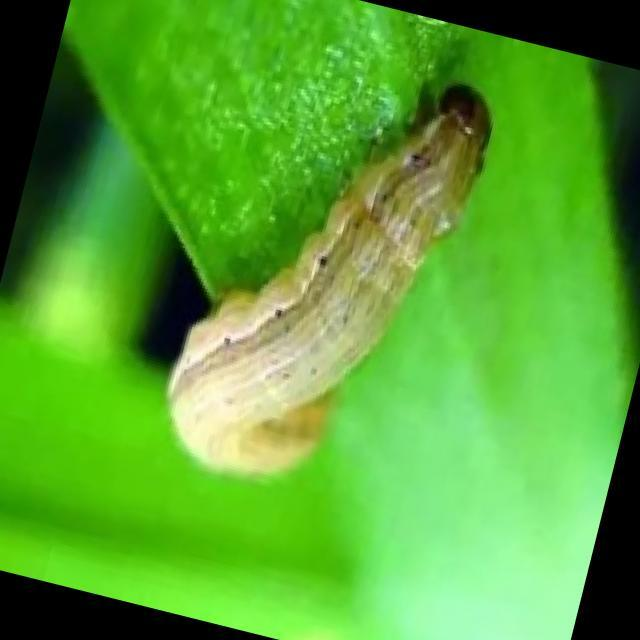Plaga: (119, 16, 524, 533)
